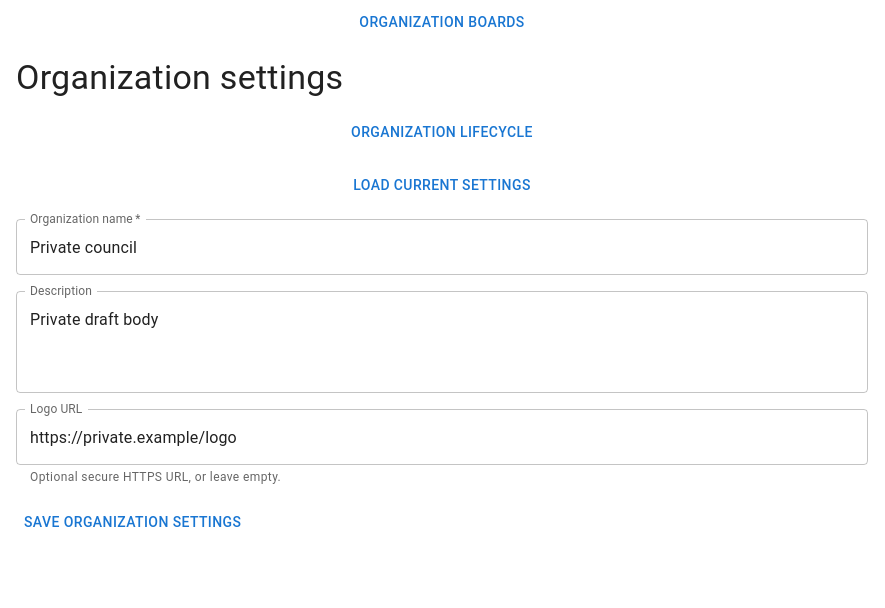
reports a refused version conflict without a success observation
Expected: the field labelled "Organization name *" is shown, top-left (16, 220), bottom-right (868, 276)
Click the button "Save Organization settings" at point(133, 523), box top-left (16, 504), bottom-right (249, 541)
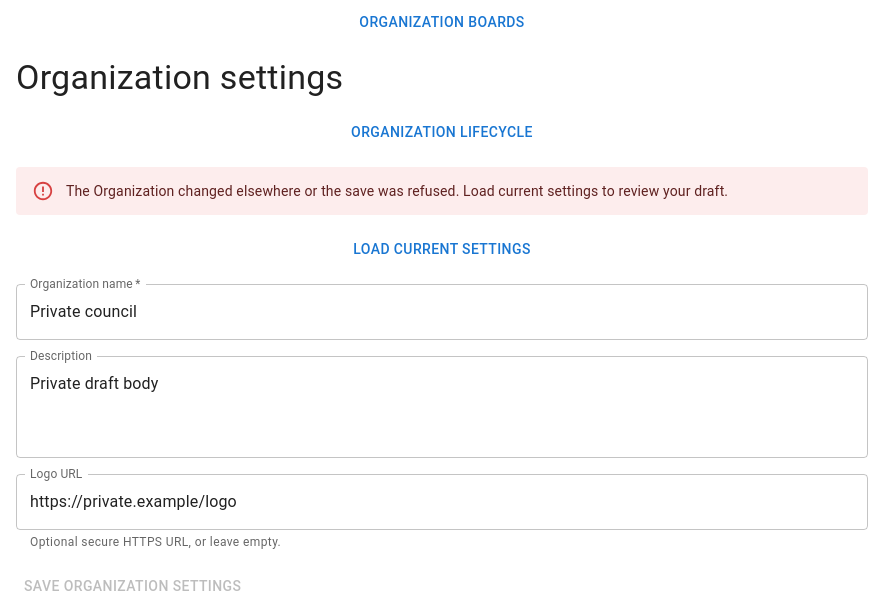
Expected: the text "Organization changed elsewhere" is shown, top-left (66, 183), bottom-right (728, 199)
